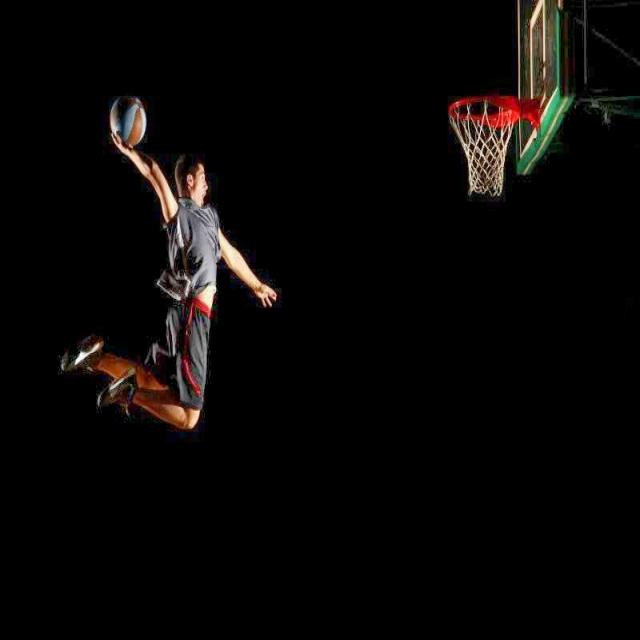board: (111, 92, 147, 148)
rim: (448, 96, 520, 198)
